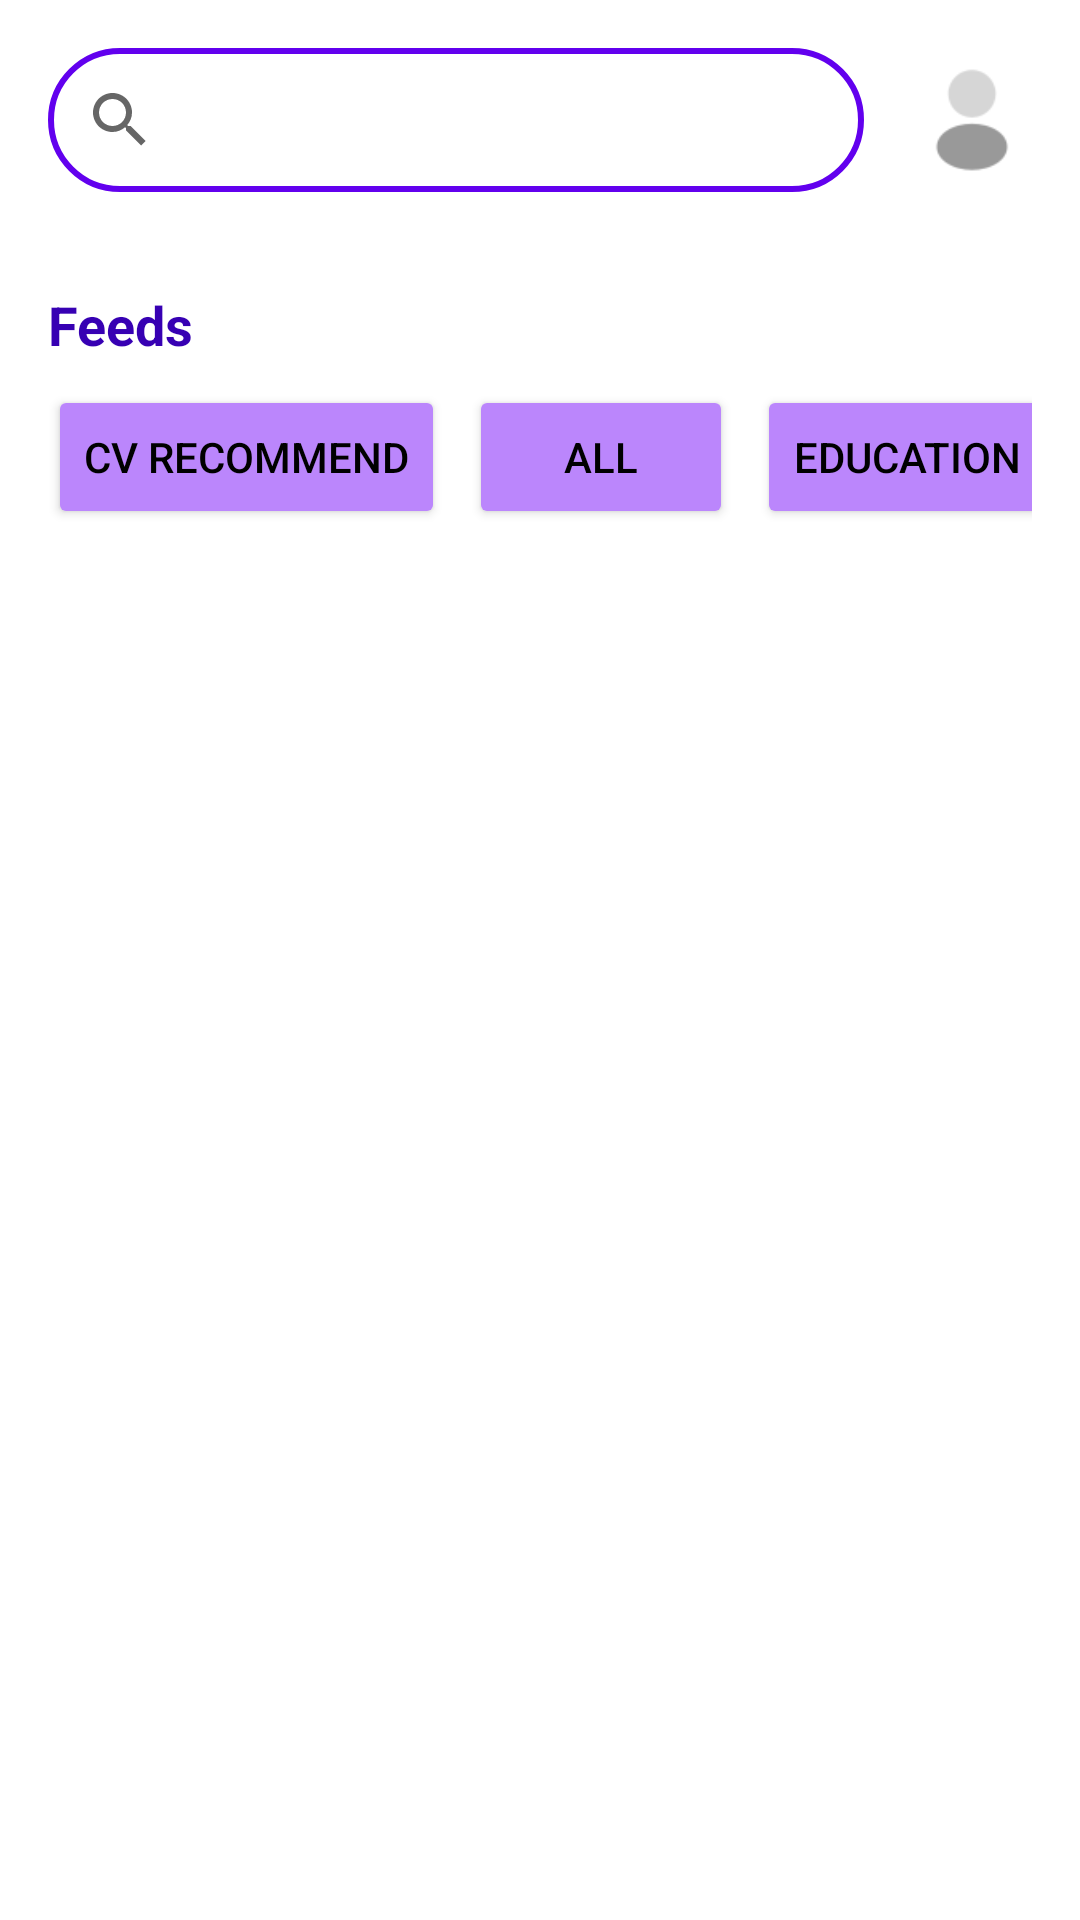

Icons on this 1080 × 1920 Android screen, each with its box as (x1, y1, x2, y2):
Profile Image: (936, 70, 1008, 171)
